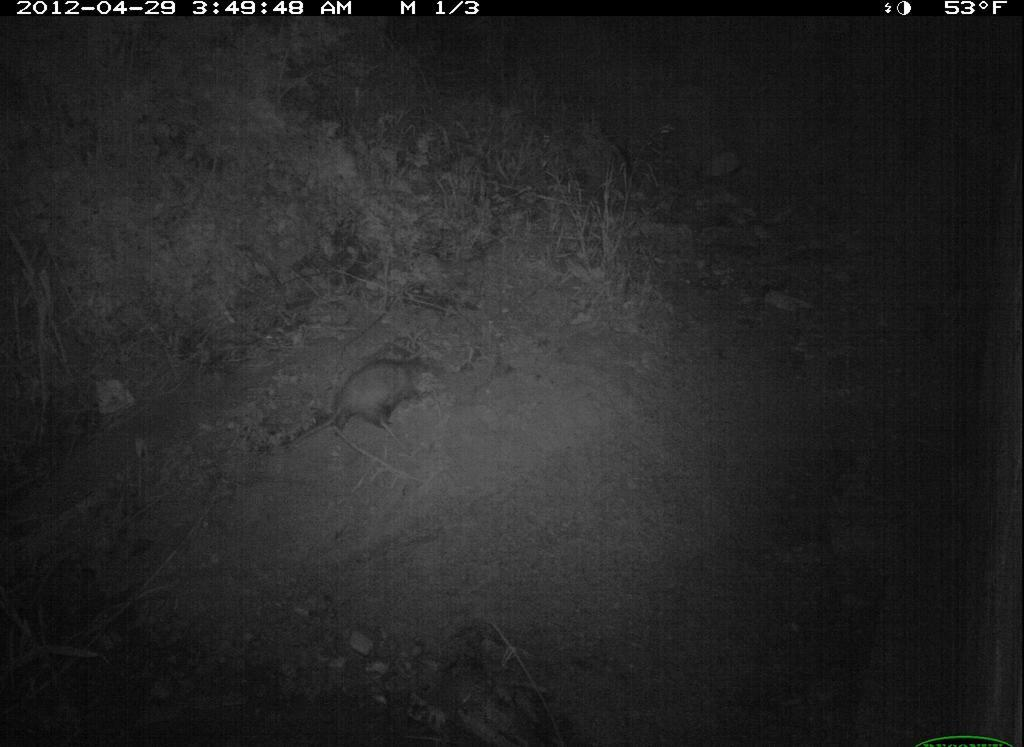opossum: (253, 349, 458, 470)
